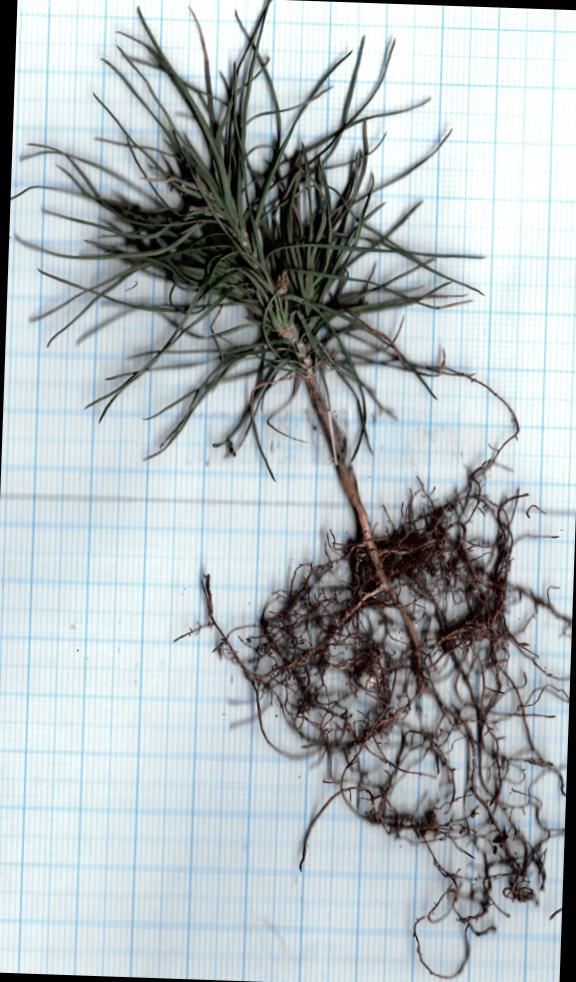flower: (34, 0, 479, 456)
root: (219, 464, 571, 978)
stem: (304, 375, 372, 539)
